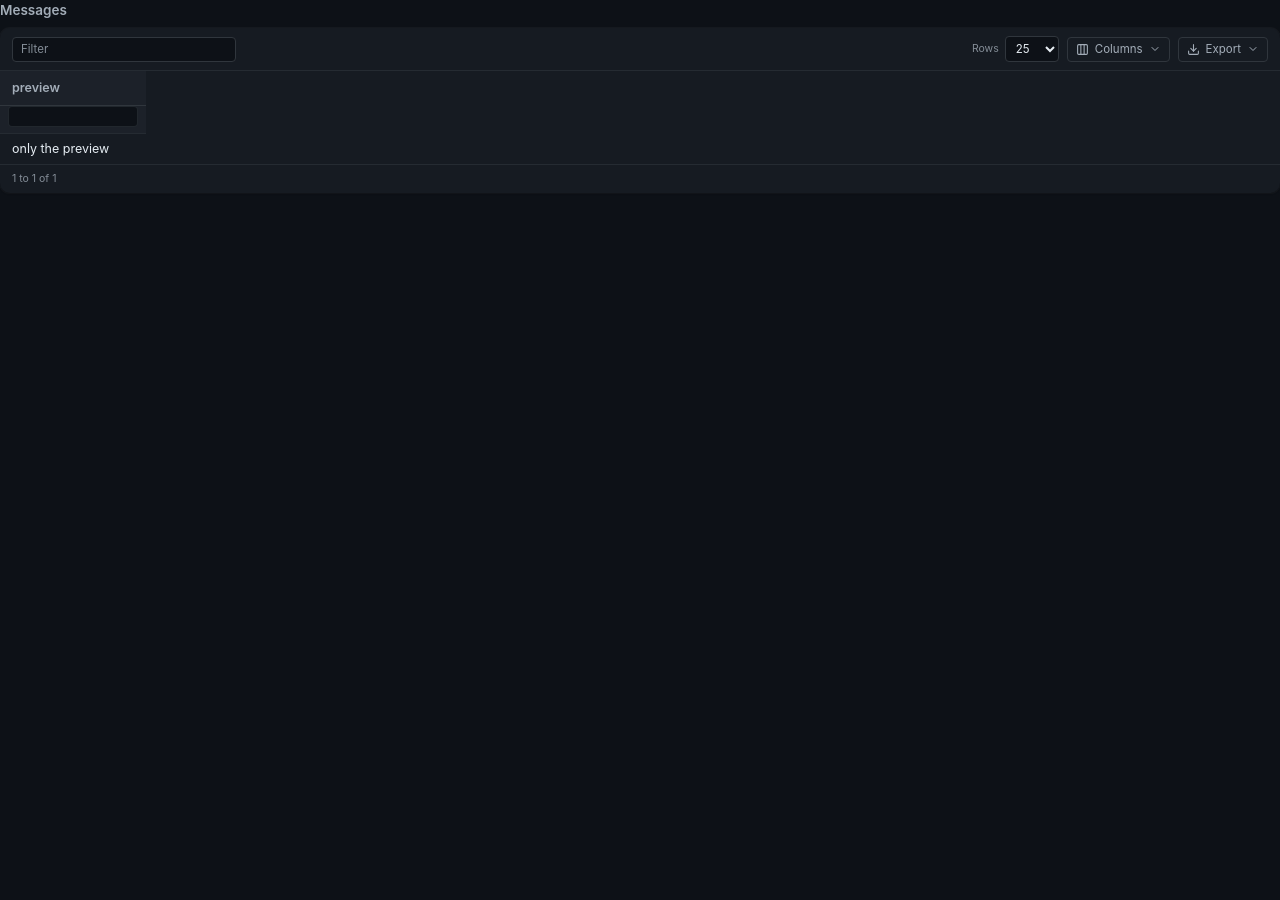
Test: opening a row of the messages table › keeps the preview and says so when the fetch fails (gate can fail)
Click the row "only the preview" at {"x": 73, "y": 149}, box [0,134,146,164]
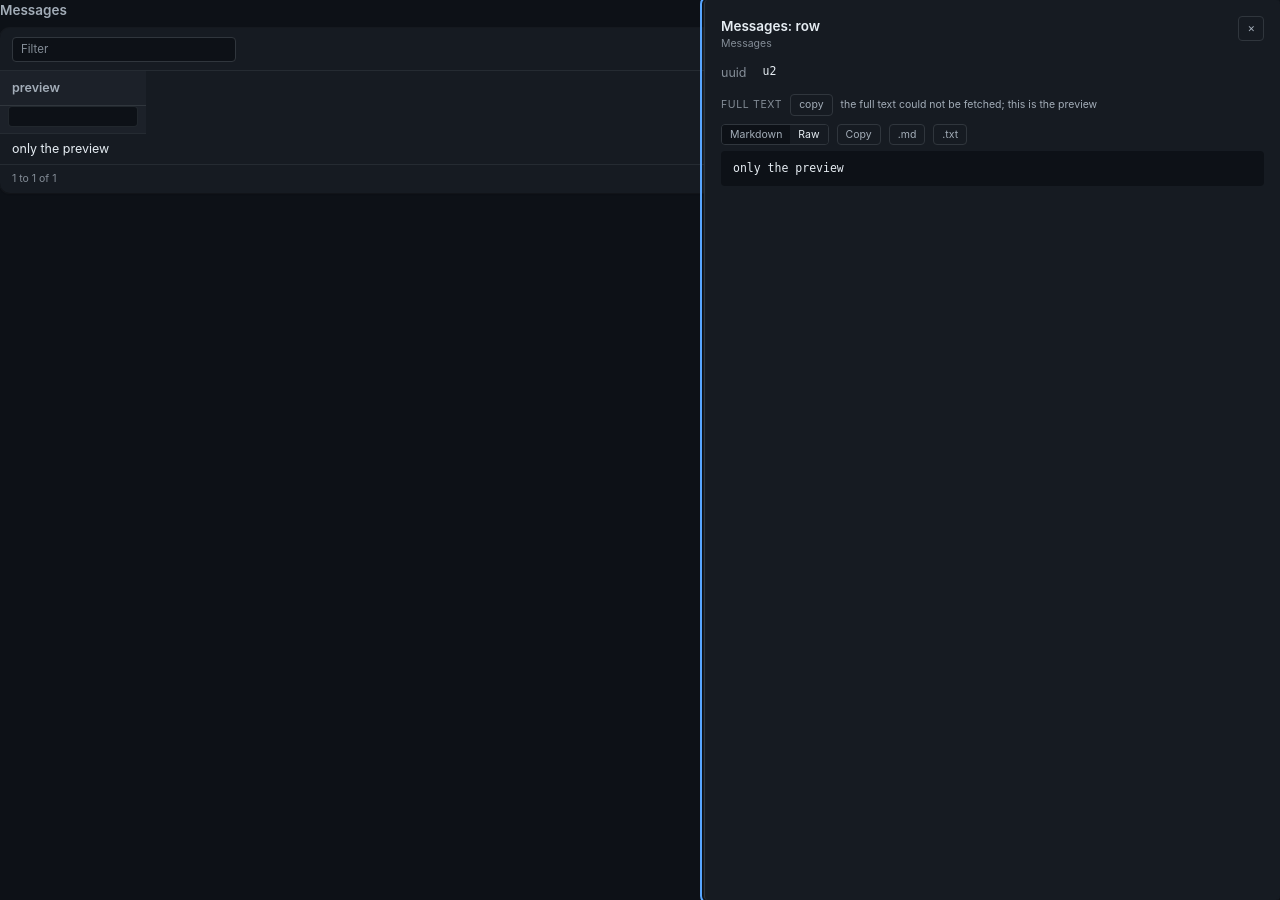
Check: the message shows "could not be fetched", box [840,98,1097,111]
Check: the dialog shows "only the preview", box [733,161,844,175]
